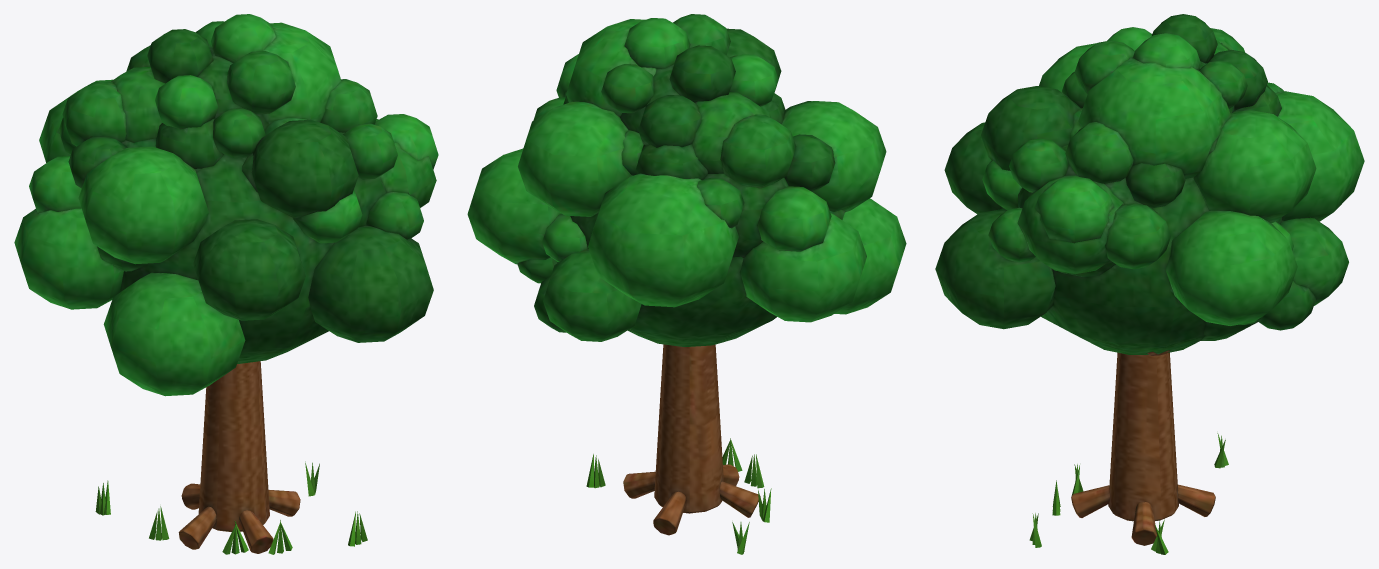
Rendered from blood_orange_tree.glb.
3 views of the same model, side by side, from view 1: azimuth 30°, elevation 25°; view 2: azimuth 150°, elevation 25°; view 3: azimuth 270°, elevation 25° (orthographic).
Visible parts, largest first — view 1: crown, blood_orange_tree; view 2: crown, blood_orange_tree; view 3: crown, blood_orange_tree.
Part boxes in pixels (x1=…): crown: x1=14, y1=14, x2=438, y2=396; blood_orange_tree: x1=95, y1=361, x2=367, y2=554; crown: x1=467, y1=14, x2=906, y2=346; blood_orange_tree: x1=586, y1=344, x2=771, y2=554; crown: x1=935, y1=14, x2=1364, y2=354; blood_orange_tree: x1=1029, y1=350, x2=1228, y2=554.
Size of the model in its own units: 1.06 by 1.38 by 1.09.
Materials: 1 (1 with a texture image).
